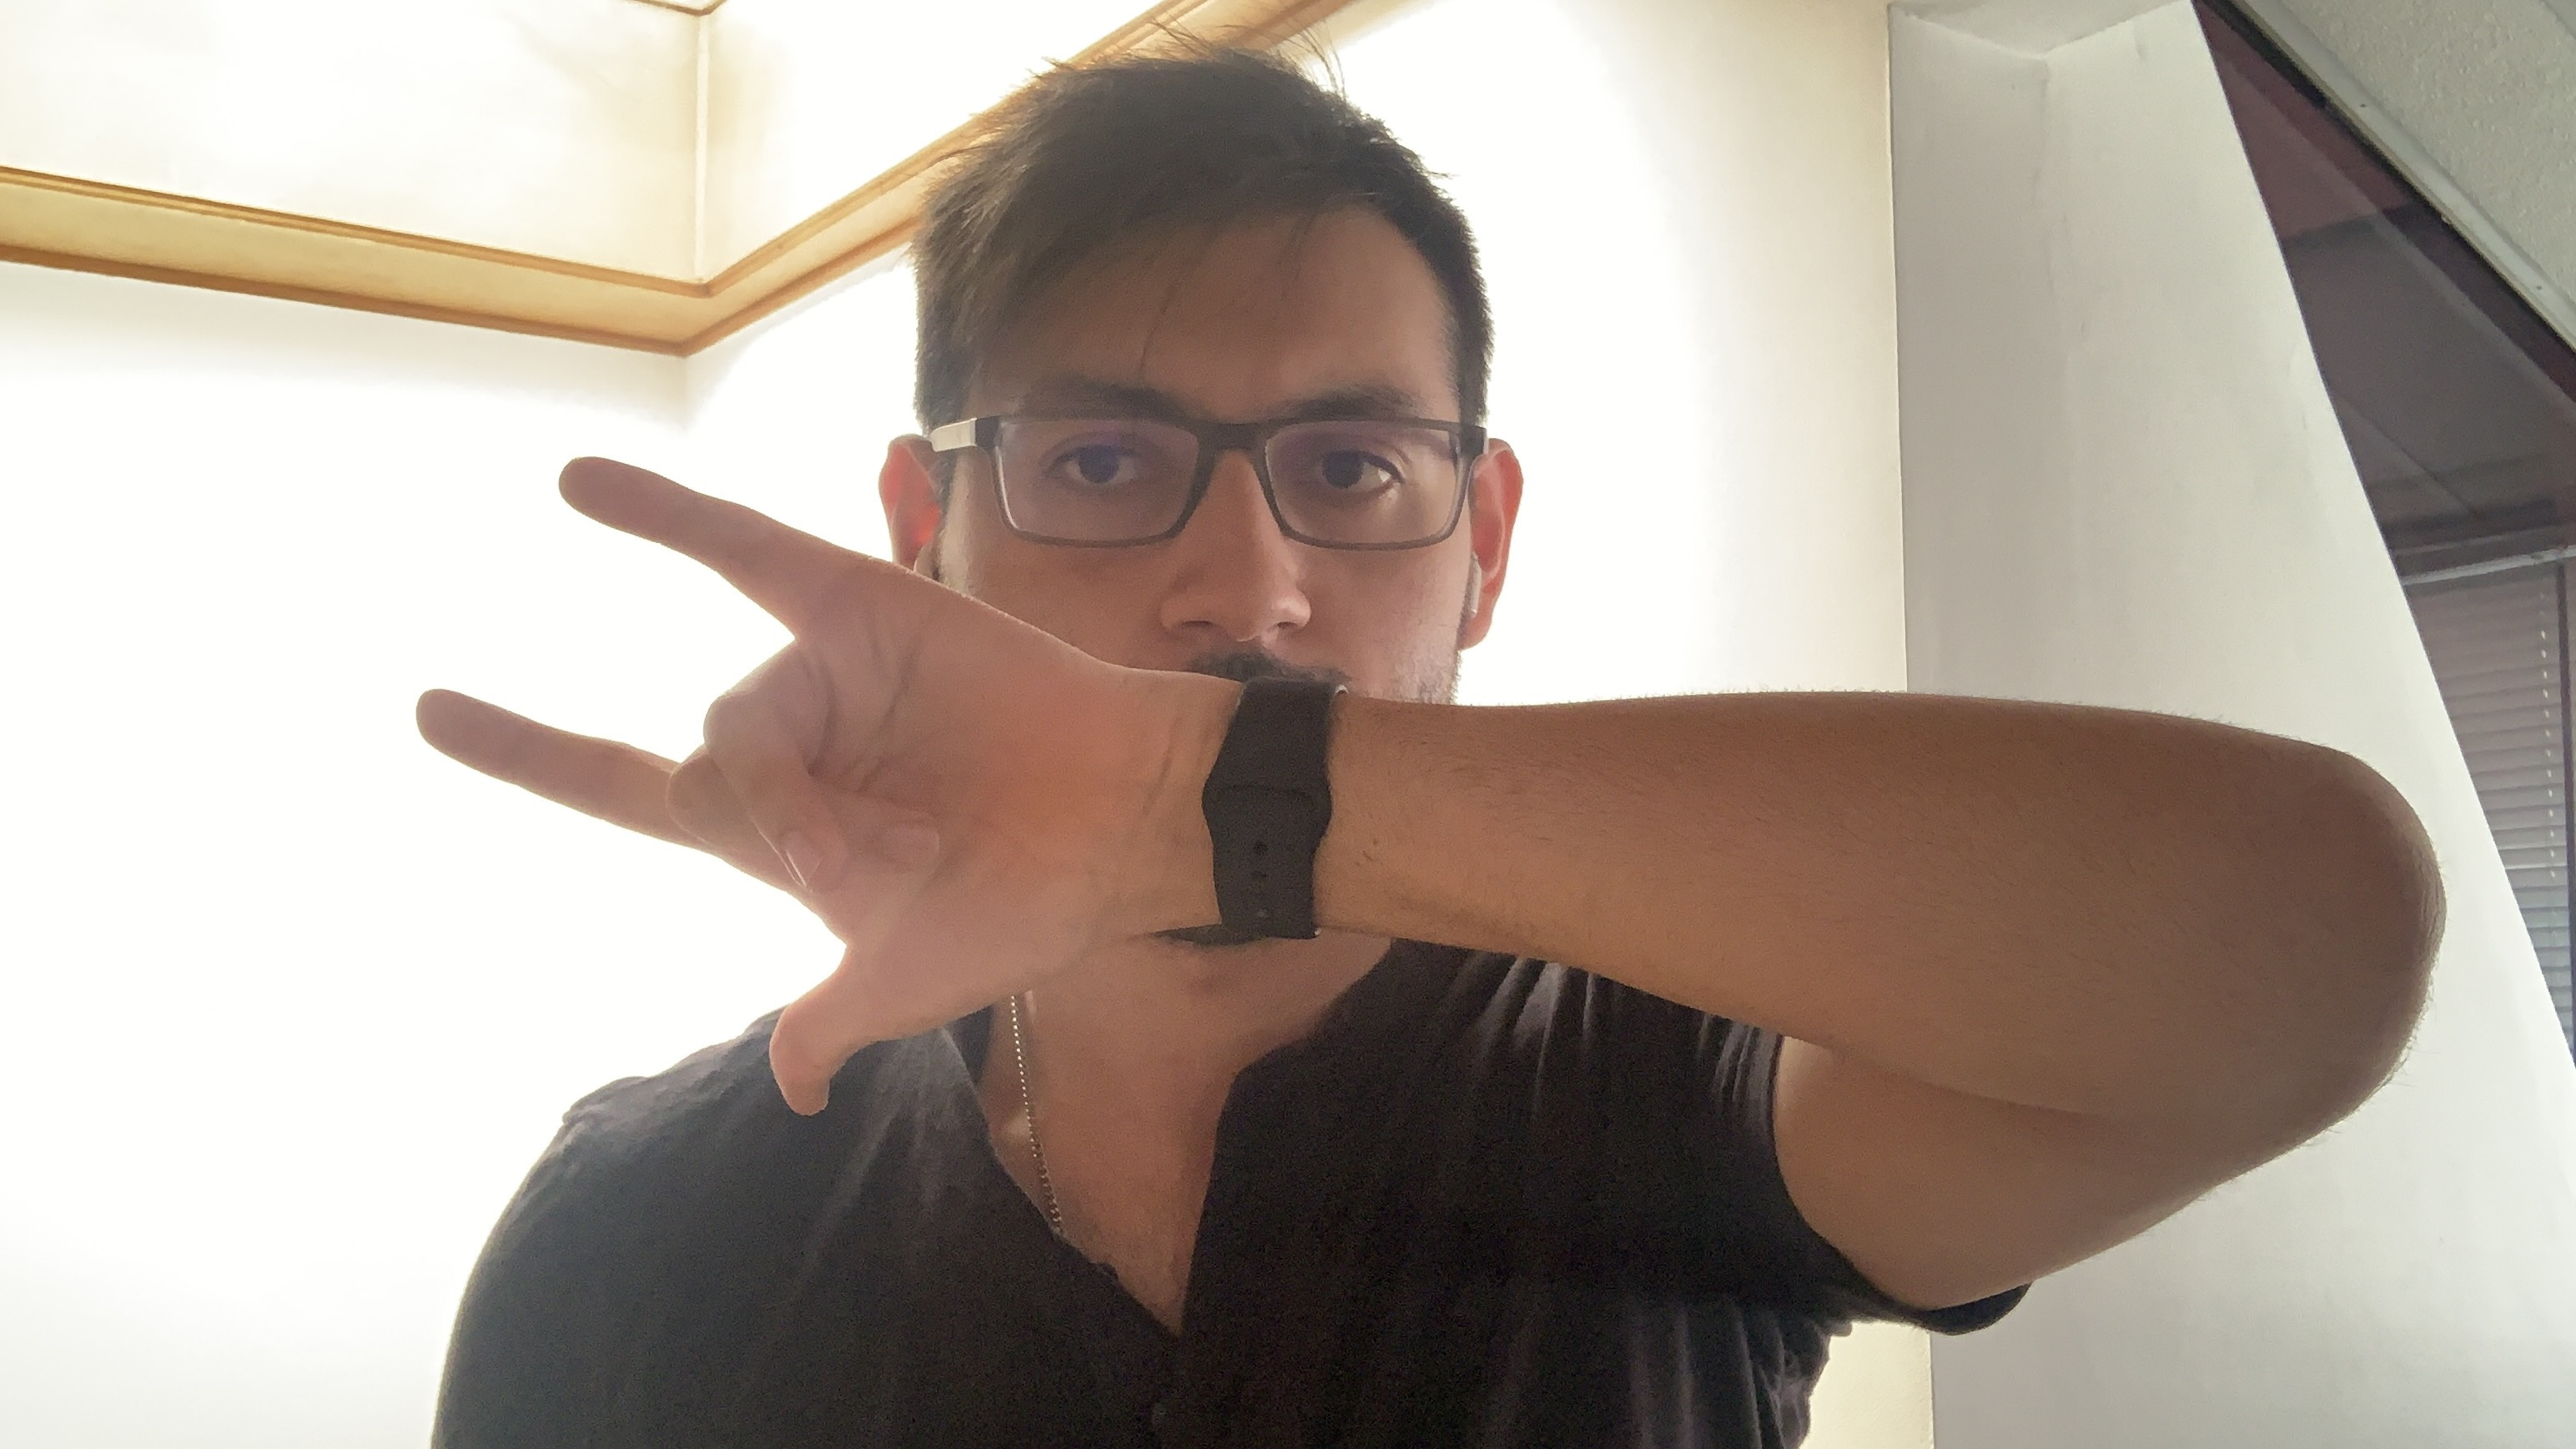I Love You: (398, 442, 1182, 1132)
